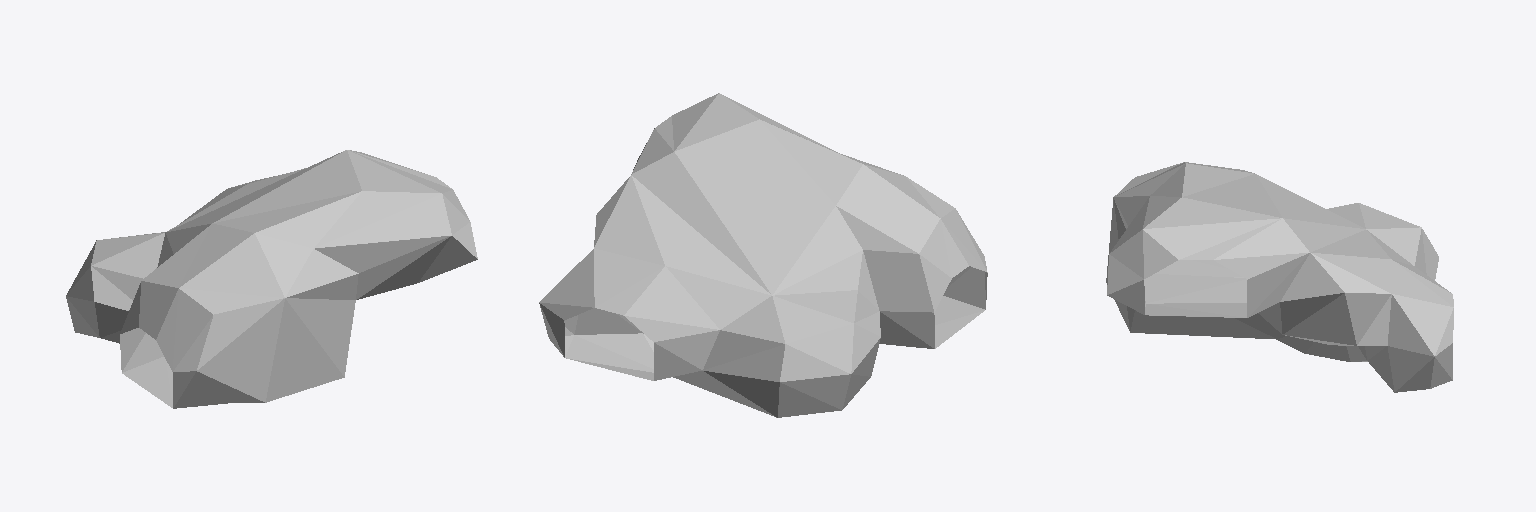
Rendered from Mesh_CavePack_Room_3way_lod2.obj.
3 views of the same model, side by side, from view 1: azimuth 30°, elevation 25°; view 2: azimuth 150°, elevation 25°; view 3: azimuth 270°, elevation 25° (orthographic).
Parts seen in each view (by area): view 1: Plane.004; view 2: Plane.004; view 3: Plane.004.
Part boxes in pixels (x1,y1,x2,y2): Plane.004: (66, 150, 477, 408); Plane.004: (539, 93, 987, 417); Plane.004: (1106, 162, 1453, 392).
Size of the model in its own units: 32.62 by 17.84 by 32.4.